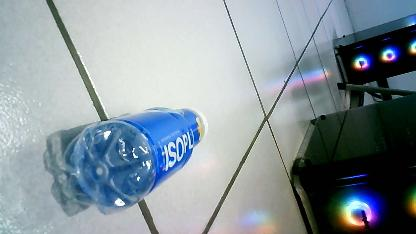Plastic Bottle: (68, 90, 222, 214)
